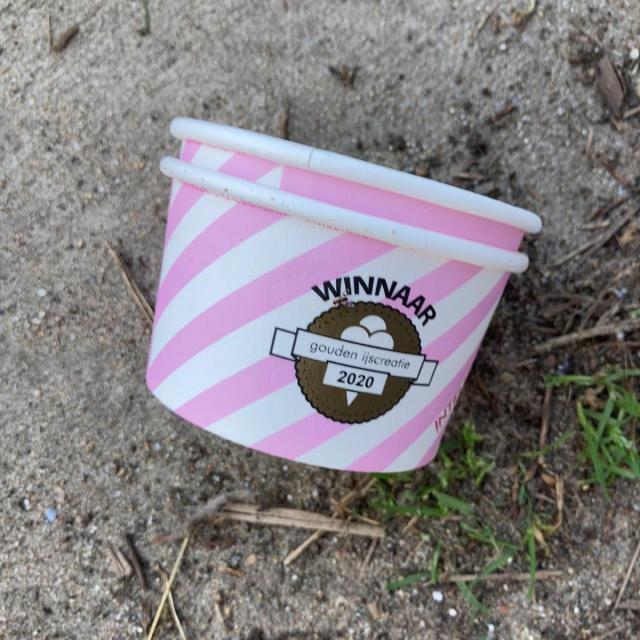Paper: (142, 111, 547, 482)
